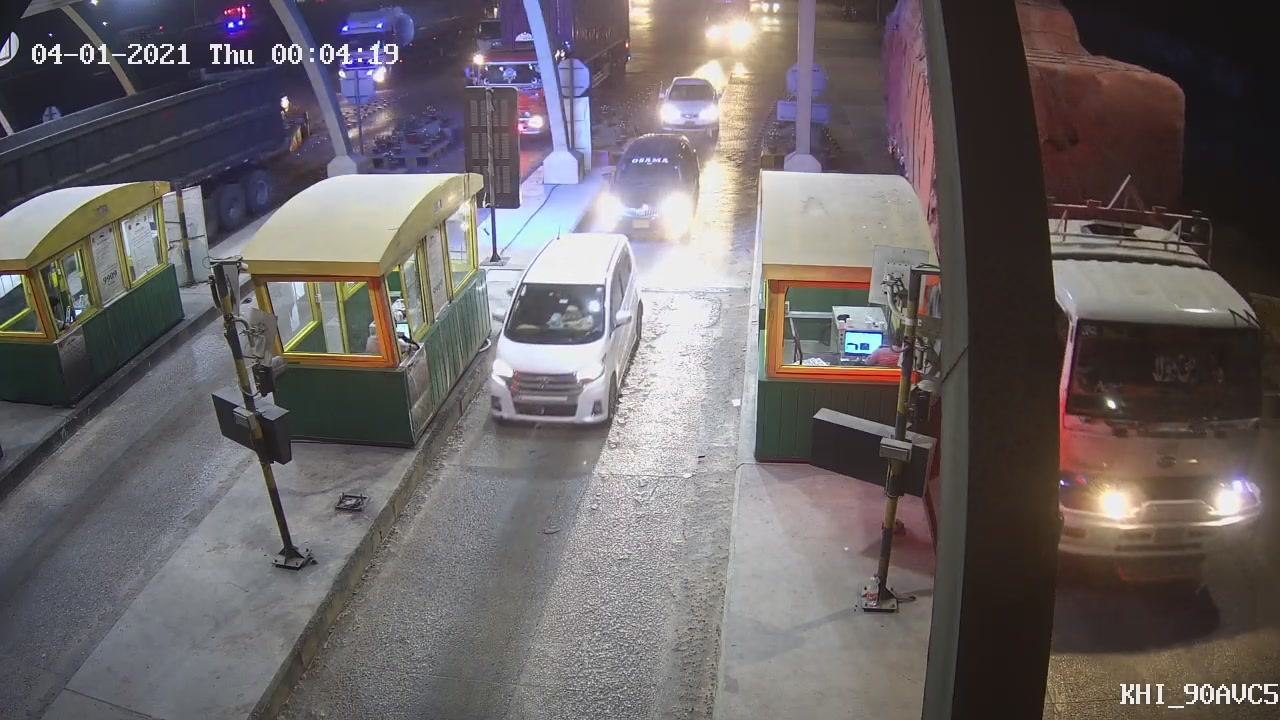F1: (483, 233, 646, 447), (649, 66, 730, 134)
